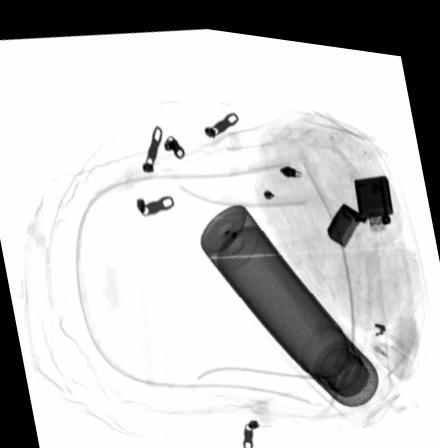Lighter: (325, 162, 392, 237)
